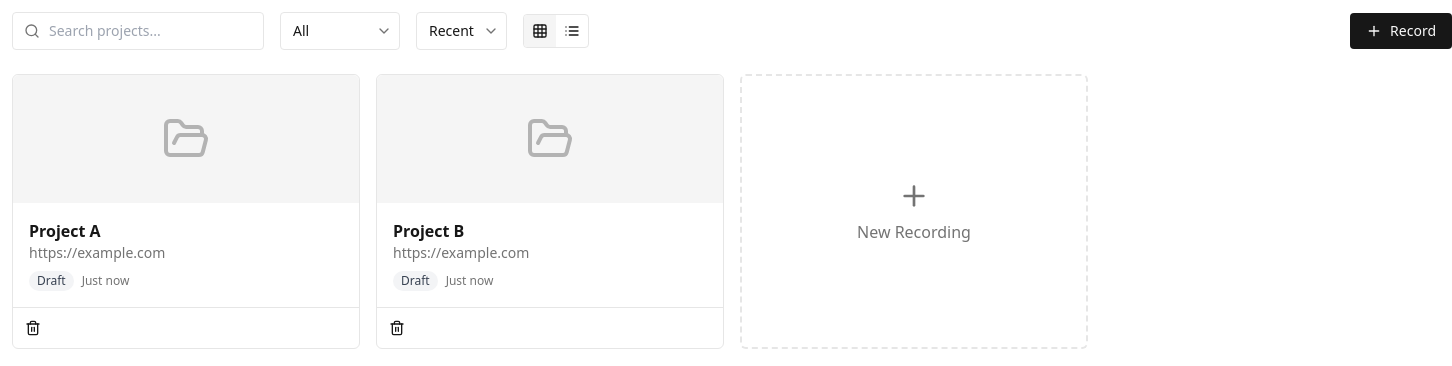
Scenario: ProjectList › should search by description
The image size is (1452, 366).
Type "commerce" into the field with placeholder "Search projects..." at (138, 31), box [12, 12, 264, 50]
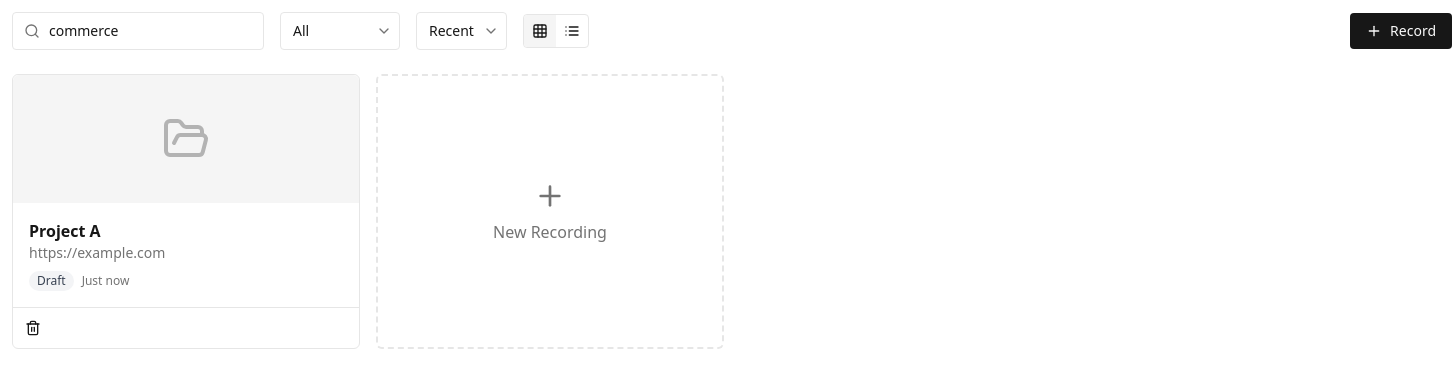
Expected: the heading "Project A" is shown, [29, 220, 101, 242]
Expected: the link "Project B" is gone
